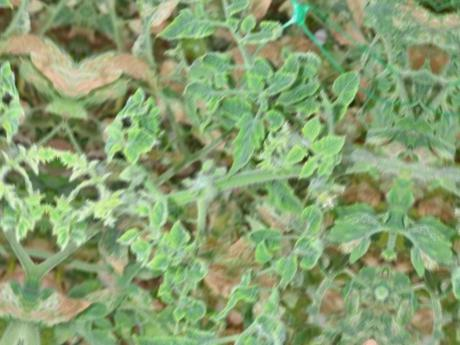Tomato leaf yellow virus: (163, 204, 199, 264), (140, 188, 172, 237), (309, 126, 348, 164), (118, 128, 165, 158), (281, 129, 313, 173)
